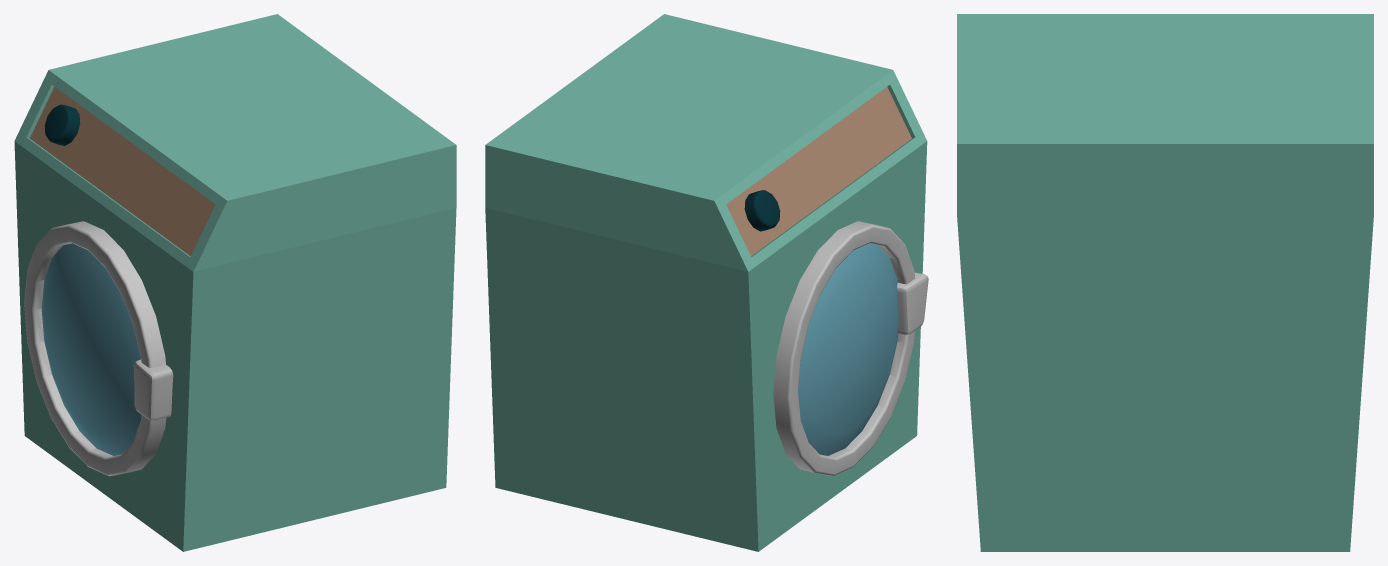
Rendered from 02_Wasmashiene.fbx.
3 views of the same model, side by side, from view 1: azimuth 30°, elevation 25°; view 2: azimuth 150°, elevation 25°; view 3: azimuth 270°, elevation 25° (orthographic). The views are drawn at different scales.
Visible parts, largest first — view 1: polySurface92; view 2: polySurface92; view 3: polySurface92.
Part boxes in pixels (box(x1,y1,x2,y2)): polySurface92: box(14, 14, 456, 551); polySurface92: box(485, 14, 928, 551); polySurface92: box(957, 14, 1373, 551).
Bounding box in the file's own units: 2.28 × 2.67 × 2.47.
